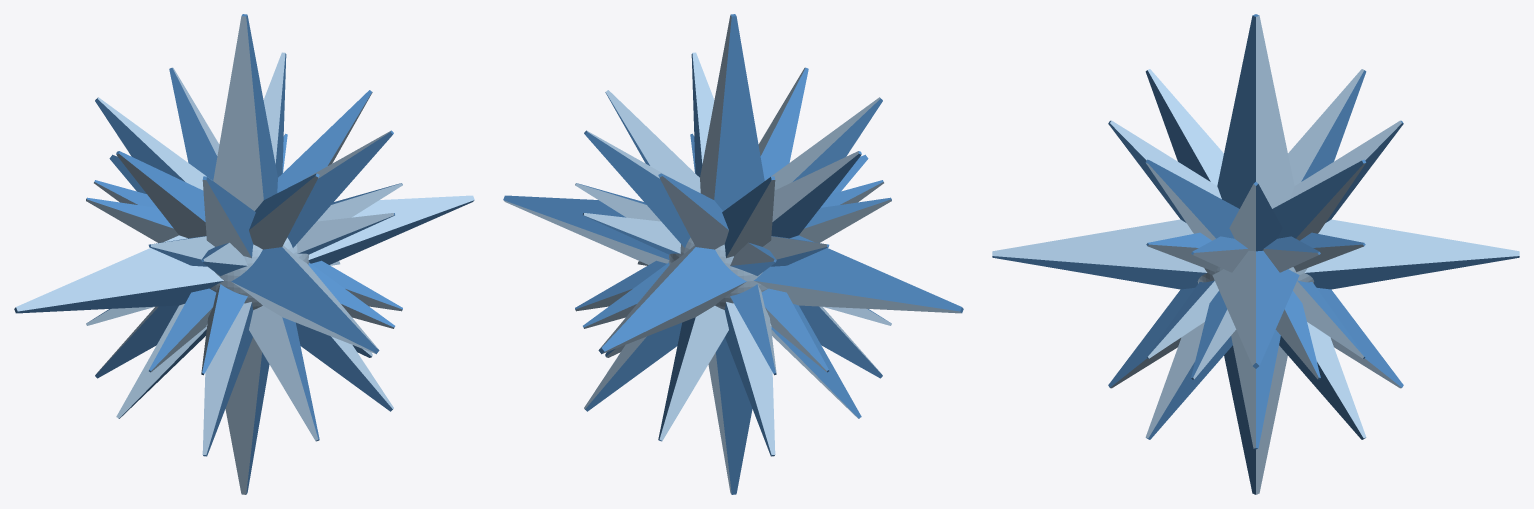
The model's file is polaris.glb.
3 renders of one model, left to right at view 1: azimuth 30°, elevation 25°; view 2: azimuth 150°, elevation 25°; view 3: azimuth 270°, elevation 25°, orthographic.
Parts seen in each view (by area): view 1: Plane.012, Plane.009, Plane.008, Plane.015, Plane.014, Plane.016, Plane.010, Plane.013, Sphere.001; view 2: Plane.012, Plane.009, Plane.008, Plane.015, Plane.014, Plane.016, Plane.010, Plane.013, Sphere.001; view 3: Plane.012, Plane.010, Plane.008, Plane.015, Plane.013, Plane.014, Plane.009, Plane.016.
Part boxes in pixels (<box>): Plane.012: <box>95,52,393,456</box>; Plane.009: <box>14,195,474,313</box>; Plane.008: <box>213,14,277,494</box>; Plane.015: <box>169,67,319,441</box>; Plane.014: <box>86,183,402,372</box>; Plane.016: <box>116,90,372,418</box>; Plane.010: <box>109,154,379,354</box>; Plane.013: <box>94,133,394,375</box>; Sphere.001: <box>210,237,309,309</box>; Plane.012: <box>584,52,882,456</box>; Plane.009: <box>503,195,963,313</box>; Plane.008: <box>700,14,764,494</box>; Plane.015: <box>658,67,808,441</box>; Plane.014: <box>575,183,891,372</box>; Plane.016: <box>605,90,861,418</box>; Plane.010: <box>598,154,868,354</box>; Plane.013: <box>583,133,883,375</box>; Sphere.001: <box>668,237,767,309</box>; Plane.012: <box>1145,69,1366,439</box>; Plane.010: <box>992,219,1519,289</box>; Plane.008: <box>1217,14,1294,494</box>; Plane.015: <box>1108,120,1403,388</box>; Plane.013: <box>1146,232,1365,358</box>; Plane.014: <box>1191,236,1320,379</box>; Plane.009: <box>1212,250,1299,368</box>; Plane.016: <box>1229,182,1282,449</box>.
Bounding box in the file's own units: 4.02 × 4.02 × 4.02.
